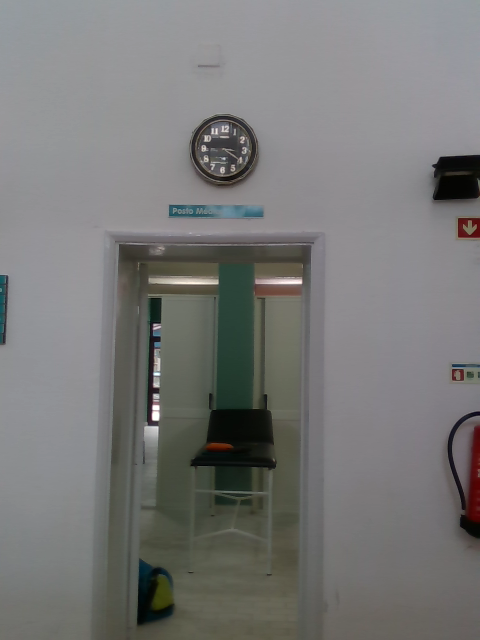open: (104, 236, 325, 639)
